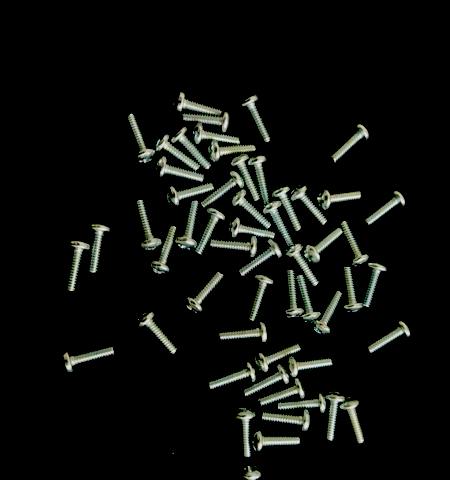shortscrew: (136, 310, 178, 356), (171, 126, 212, 170), (328, 124, 370, 165), (200, 171, 245, 209), (154, 133, 199, 171), (365, 318, 411, 355), (237, 240, 283, 277), (185, 272, 224, 315), (290, 183, 328, 227), (284, 242, 321, 287), (269, 185, 303, 233), (132, 199, 163, 251), (363, 189, 406, 226), (61, 345, 115, 374), (303, 227, 344, 265), (193, 208, 226, 255), (254, 342, 302, 374), (126, 113, 156, 164), (245, 364, 290, 398), (148, 224, 178, 274), (311, 289, 343, 335), (241, 94, 271, 143), (230, 154, 261, 201), (152, 156, 204, 184), (262, 201, 294, 246), (208, 362, 256, 391), (340, 221, 370, 267), (65, 240, 91, 292), (258, 379, 306, 407), (166, 181, 214, 209), (173, 91, 223, 117), (262, 406, 311, 432), (363, 260, 389, 308), (176, 201, 201, 250), (88, 222, 112, 273), (340, 398, 366, 445), (247, 155, 271, 205), (208, 140, 257, 164), (251, 430, 301, 453), (234, 407, 256, 458), (229, 217, 276, 240), (286, 355, 333, 378), (297, 277, 321, 322), (183, 111, 231, 133), (192, 123, 240, 145), (284, 269, 305, 319), (219, 322, 268, 343), (278, 393, 327, 414), (342, 268, 365, 312), (317, 189, 362, 211), (211, 239, 259, 259), (241, 465, 263, 480)
